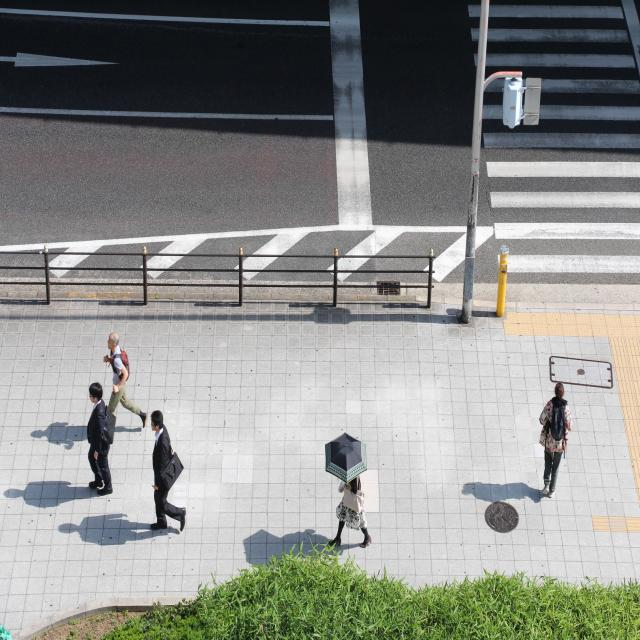adult: (150, 408, 188, 534), (328, 451, 373, 553), (104, 334, 148, 428), (542, 379, 574, 500), (84, 382, 116, 498)
